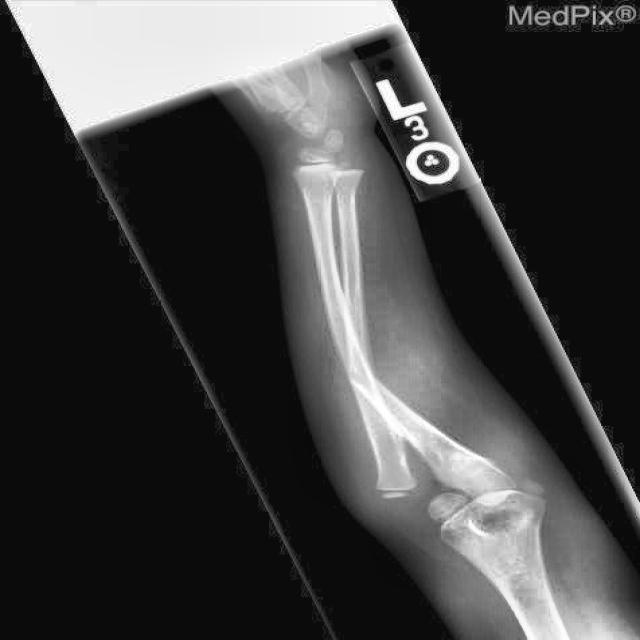fracture: (344, 366, 389, 389)
